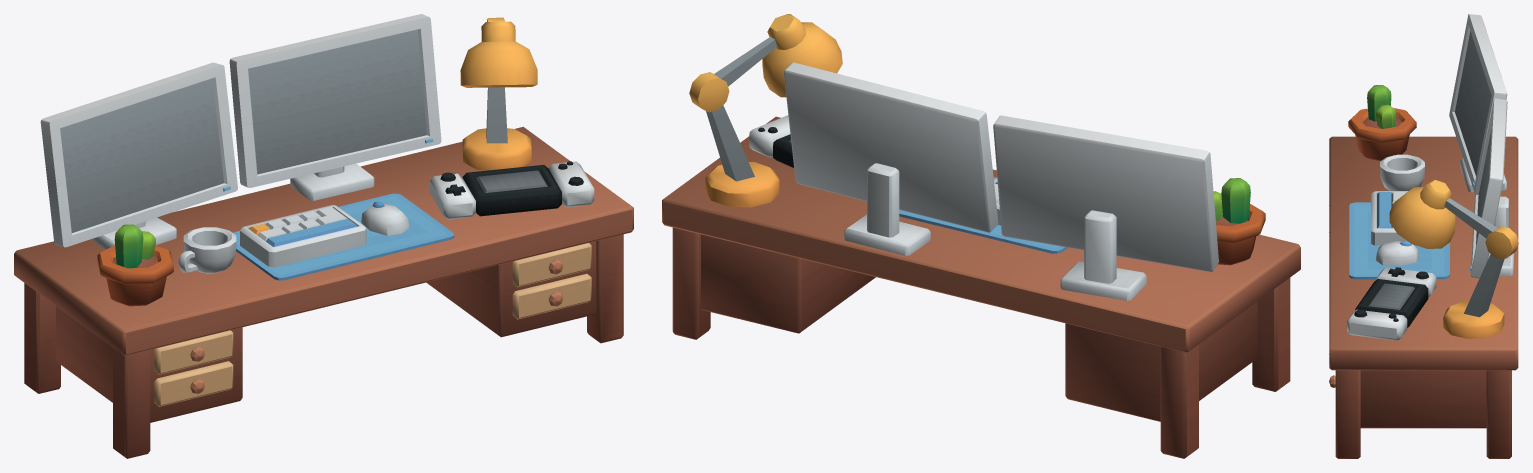
File: desk-large-decorated.glb
3 views of the same model, side by side, from view 1: azimuth 30°, elevation 25°; view 2: azimuth 150°, elevation 25°; view 3: azimuth 270°, elevation 25° (orthographic). The views are drawn at different scales.
Parts seen in each view (by area): view 1: desk_large_decorated; view 2: desk_large_decorated; view 3: desk_large_decorated.
Boxes of the visible parts, left/top/right/bottom form: desk_large_decorated: left=14, top=14, right=633, bottom=458; desk_large_decorated: left=662, top=14, right=1300, bottom=458; desk_large_decorated: left=1329, top=14, right=1518, bottom=458.
Bounding box in the file's own units: 4 × 2.18 × 1.51.
1 material, 1 textured.
